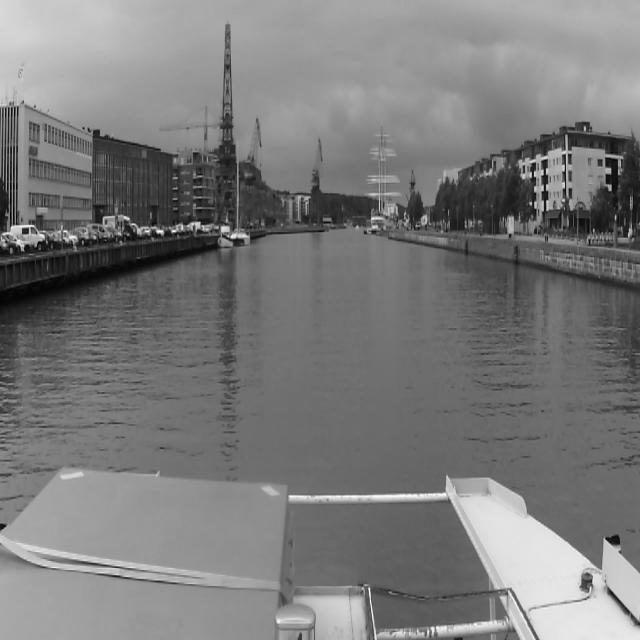ship: (365, 125, 399, 223), (229, 161, 251, 245), (217, 228, 234, 248), (363, 225, 381, 235)
